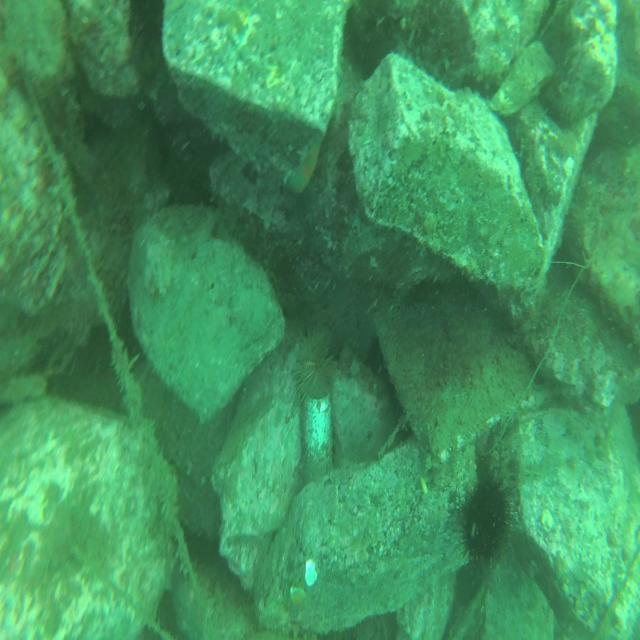echinus: (454, 472, 519, 567), (288, 323, 340, 401)
starfish: (287, 139, 322, 194)
